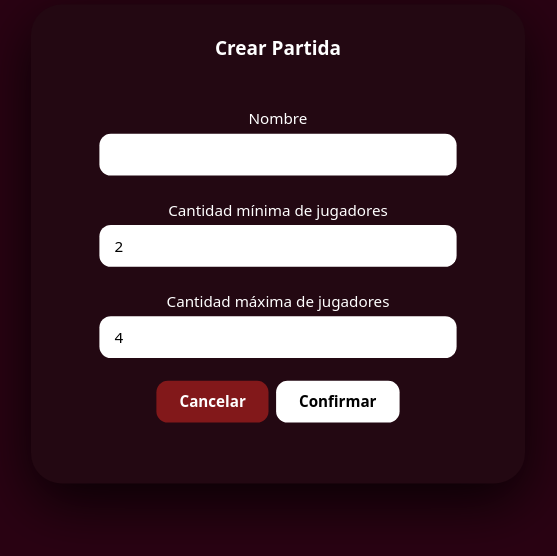
Test case: CreateGameDialog › caso min muy bajo, max demasiado alto
Replace the text in the 2nd number field with "10" at (278, 337), box [99, 316, 457, 358]
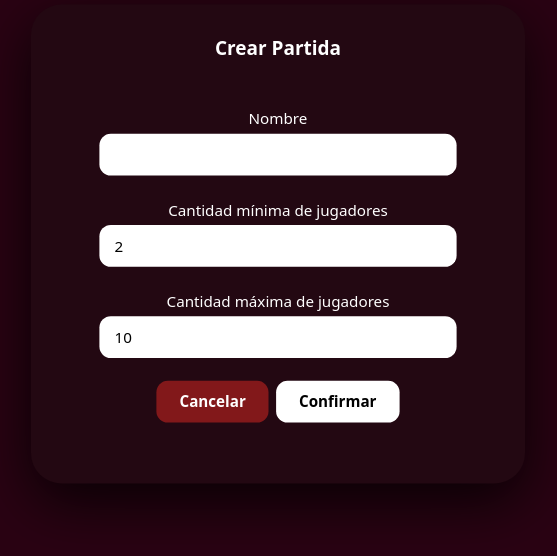
Replace the text in the number field labelled "Cantidad mínima de jugadores Cantidad máxima de jugadores" with "1" at (278, 246), box [99, 225, 457, 267]
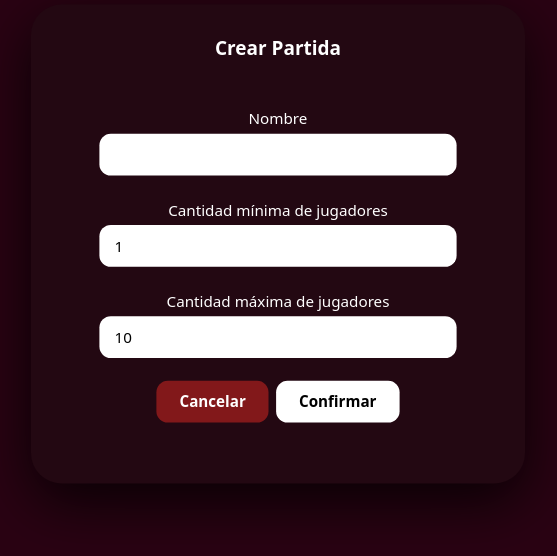
Type "Mi Partida" into the field at (278, 155), box [99, 134, 457, 176]
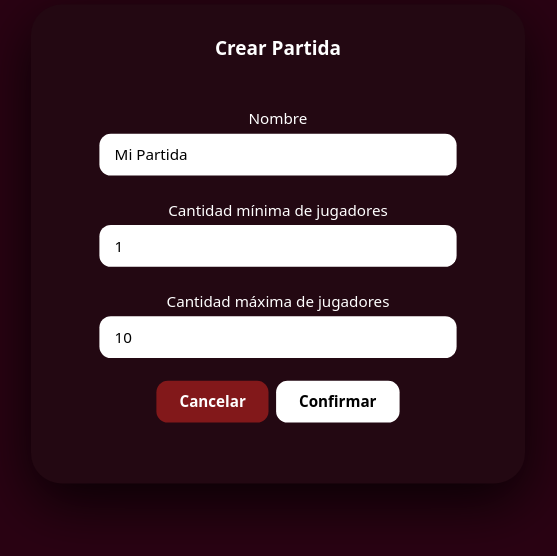
Click the button "Confirmar" at (338, 402), box [276, 381, 399, 423]
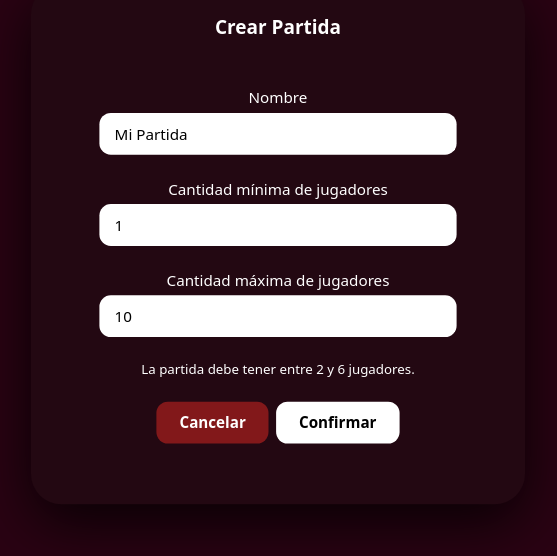
Now the text "La partida debe tener entre 2 y 6 jugadores." is shown, box [141, 360, 415, 378]
